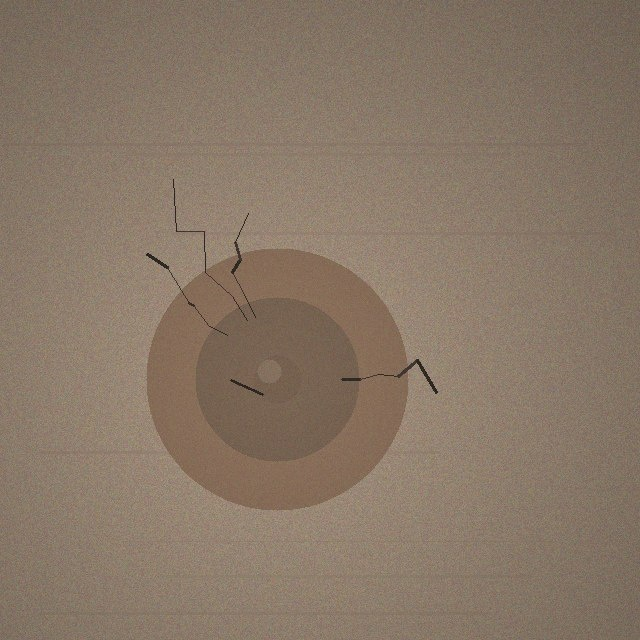crack: (146, 248, 408, 510)
